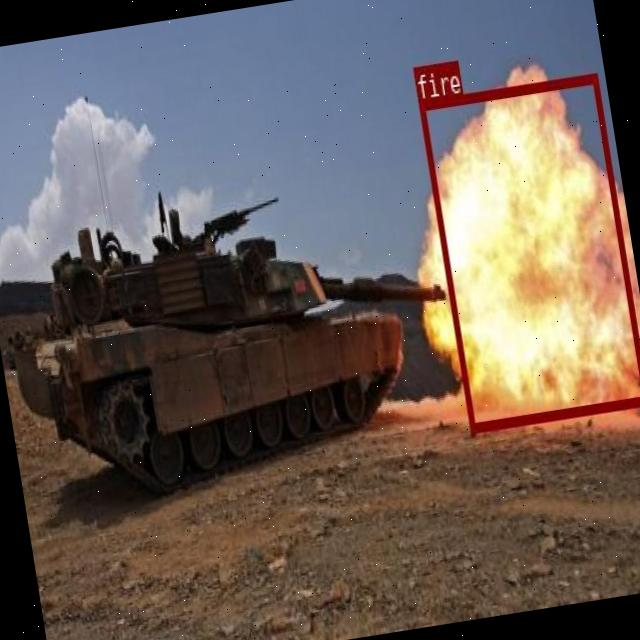fire: (418, 72, 640, 432)
